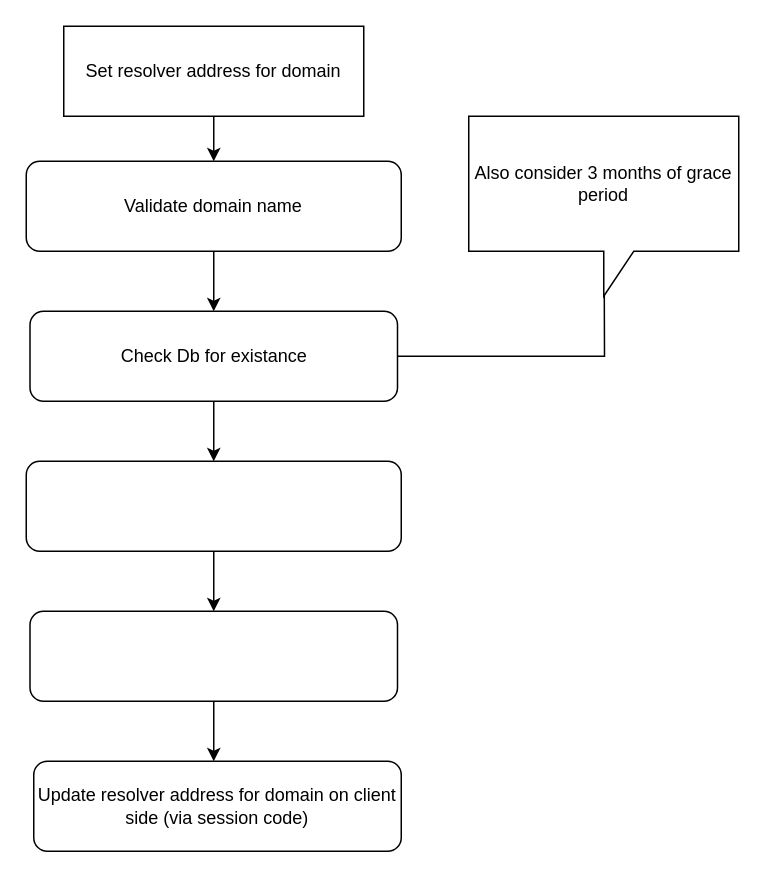
This 765x878 diagram has some shape labels left out. Here are the shapes that lost their labels. From the top down, the centre of each, then its label:
point (213, 505): User should be owner of the domain
point (213, 655): Set resolver address for the domain
